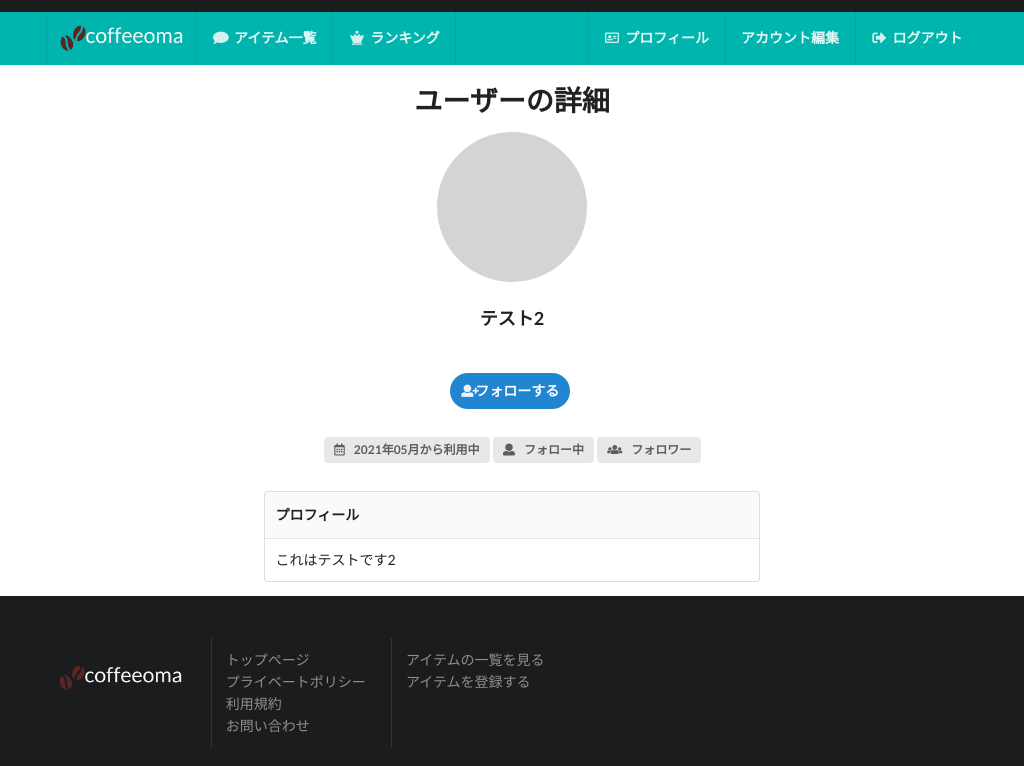
Scenario: Create › failed
Click the button "フォローする" at x=510, y=391, box [450,373,570,409]
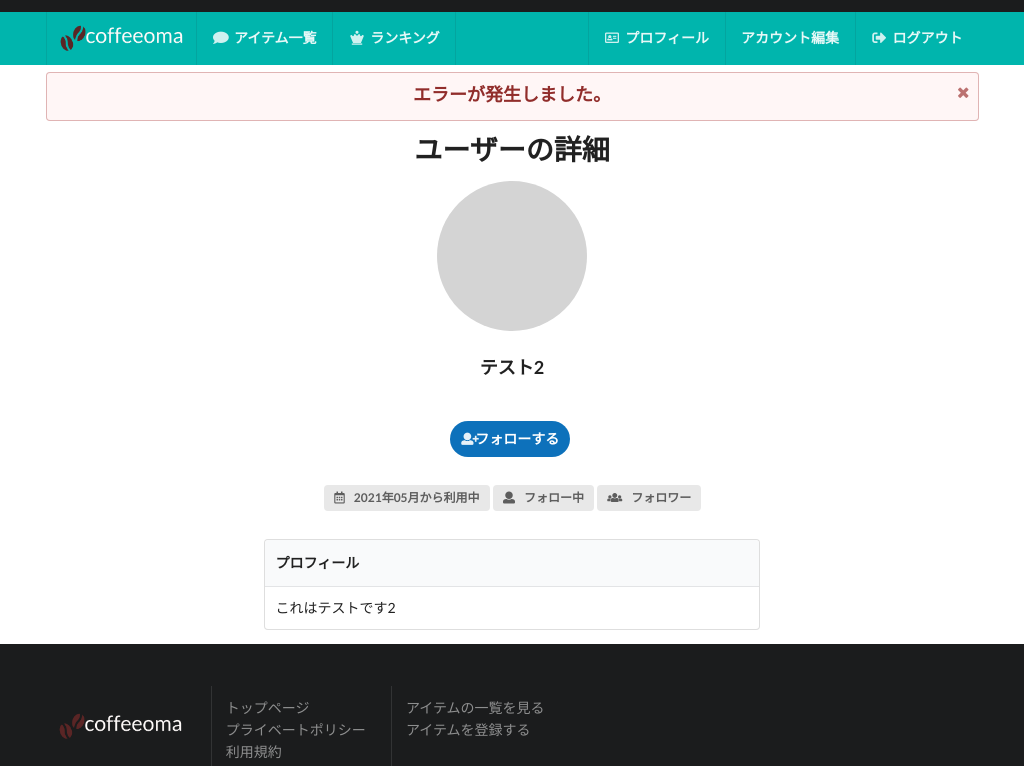
expect the text with test id "error" reads "エラーが発生しました。": met, box [413,83,611,105]
